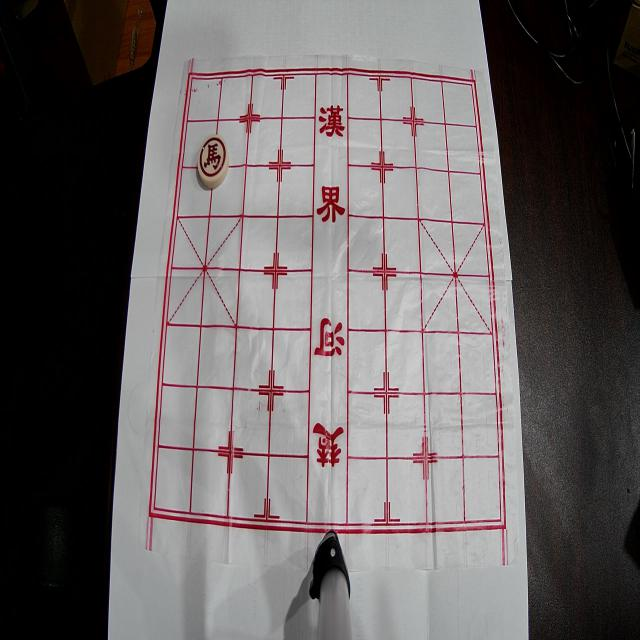red-horse: (197, 134, 229, 188)
